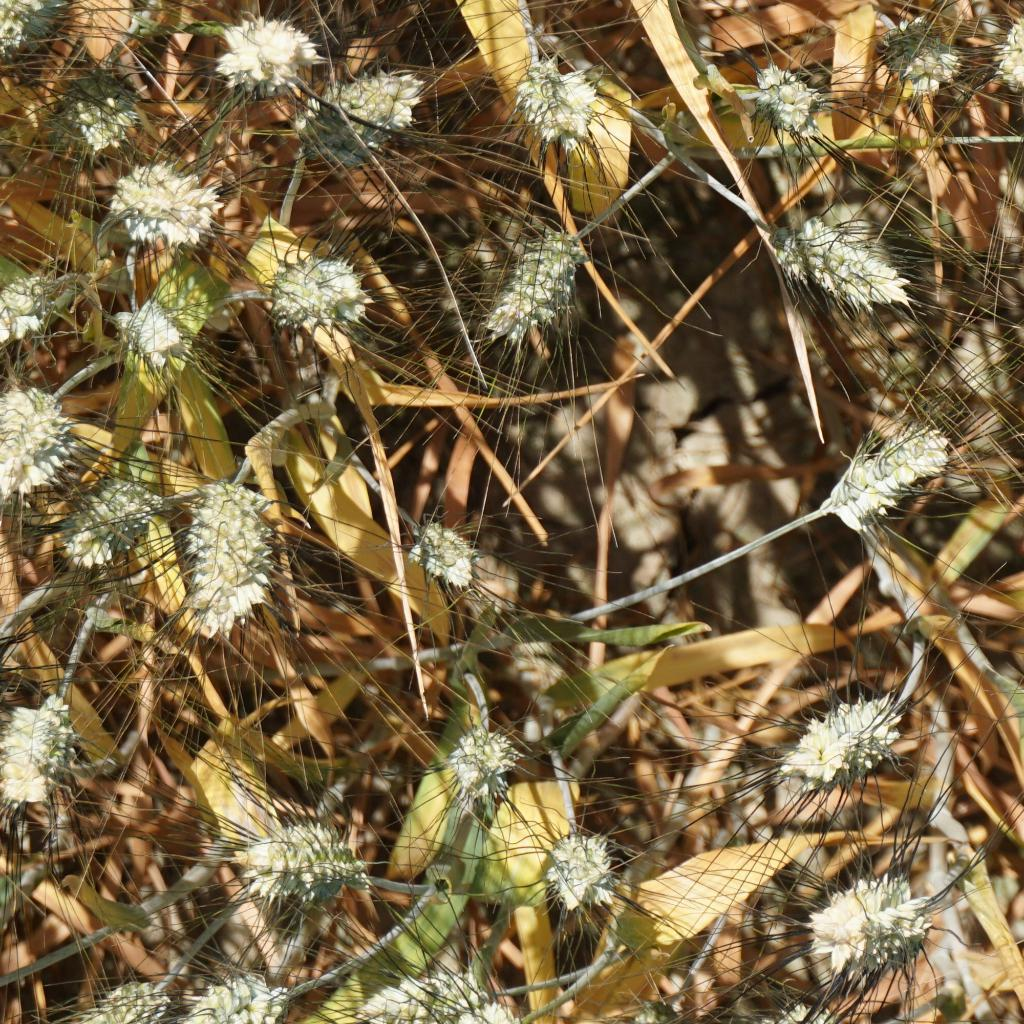0-0: (168, 480, 296, 645), (821, 410, 960, 534), (766, 218, 907, 320), (0, 698, 100, 835), (793, 880, 940, 968), (785, 670, 903, 775), (90, 154, 214, 250), (491, 222, 587, 346), (288, 62, 404, 161), (211, 9, 325, 107), (265, 252, 378, 344), (512, 58, 604, 157), (240, 819, 361, 894), (0, 378, 71, 497), (883, 7, 967, 107), (69, 466, 154, 558), (0, 252, 73, 356), (346, 969, 488, 1022), (536, 826, 619, 904), (54, 63, 135, 142), (111, 294, 194, 366), (751, 62, 822, 139), (452, 722, 517, 799), (406, 523, 476, 592), (0, 0, 77, 60), (192, 974, 281, 1024), (75, 975, 158, 1024), (994, 19, 1024, 91)
